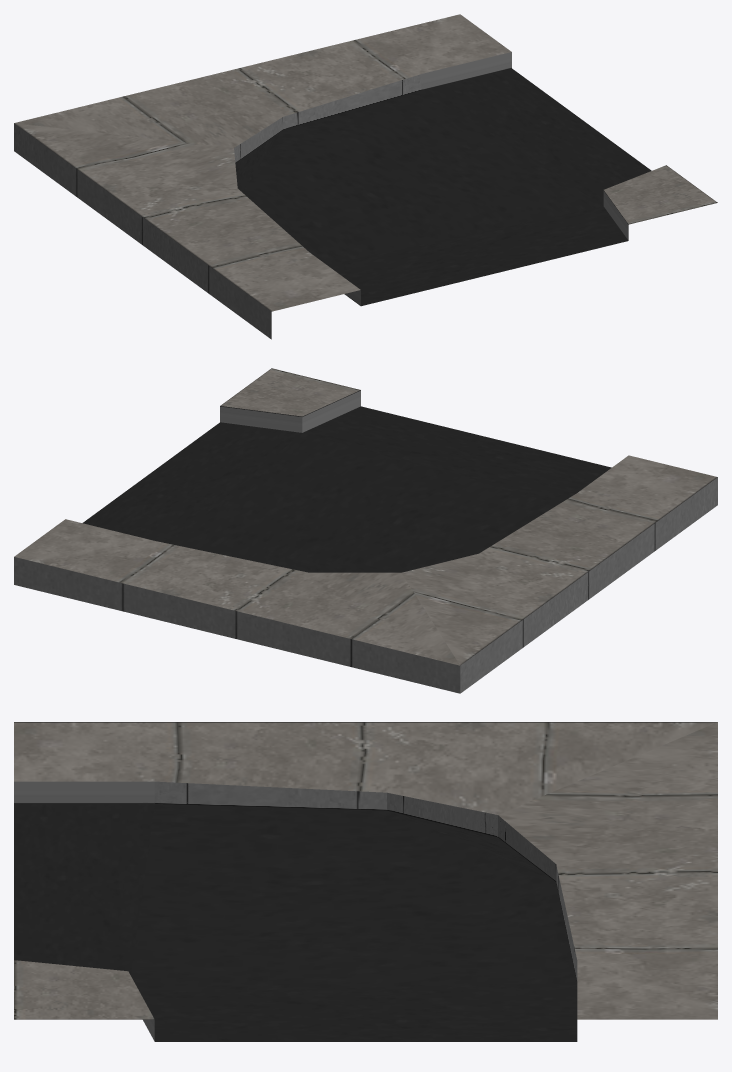
The model's file is 2L-trn.fbx.
3 renders of one model, top to bottom at view 1: azimuth 30°, elevation 25°; view 2: azimuth 150°, elevation 25°; view 3: azimuth 270°, elevation 25°, orthographic. The views are drawn at different scales.
Visible parts, largest first — view 1: 2L-trn_LOD0; view 2: 2L-trn_LOD0; view 3: 2L-trn_LOD0.
Part boxes in pixels (x1,y1,x2,y2): 2L-trn_LOD0: [14, 14, 717, 339]; 2L-trn_LOD0: [14, 368, 717, 693]; 2L-trn_LOD0: [14, 722, 717, 1041].
Size of what is drawn, in the model's own units: 200 by 12 by 200.
